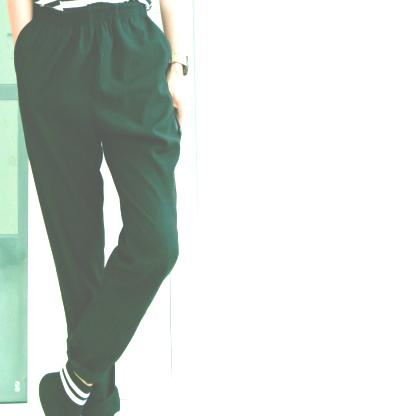dress: (9, 0, 185, 416)
